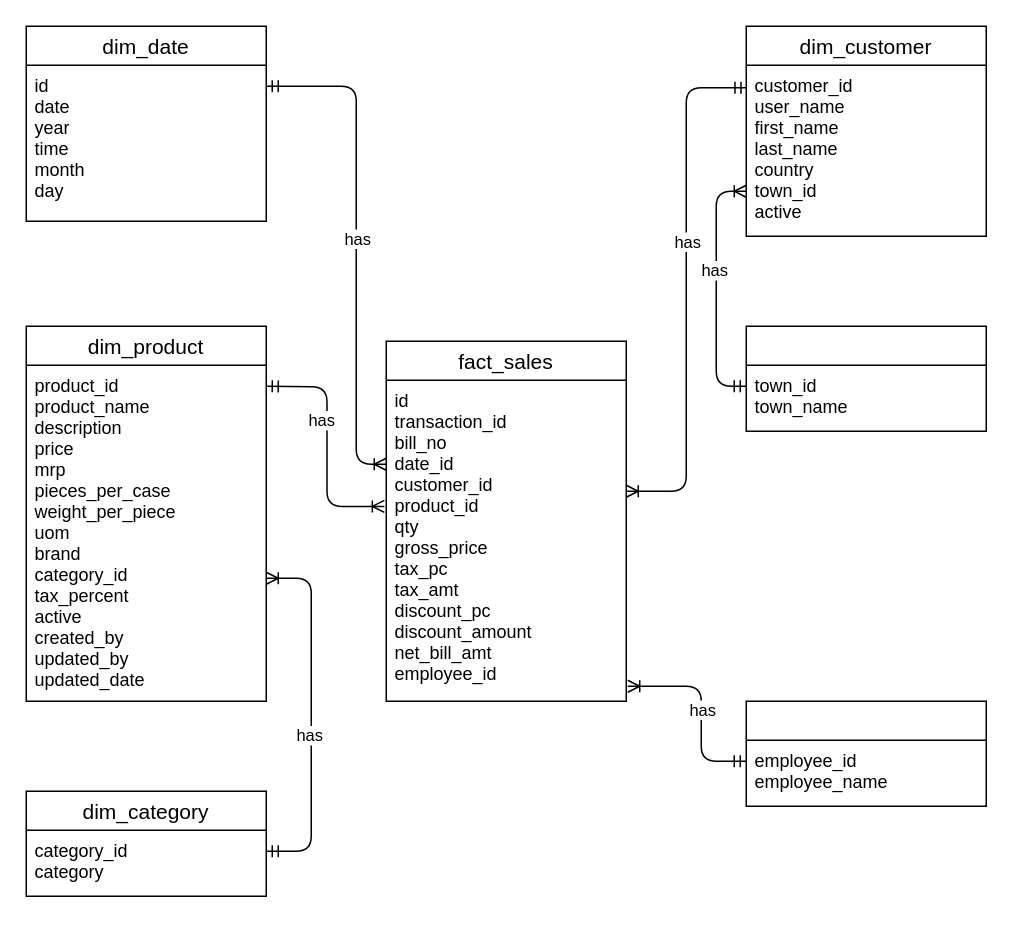
The diagram is 1013 pixels wide and 927 high, and some of its shapes have lost their labels. Each missing label, with the box of its shape:
dim_employee: (745, 700, 986, 806)
dim_town: (745, 325, 986, 431)
